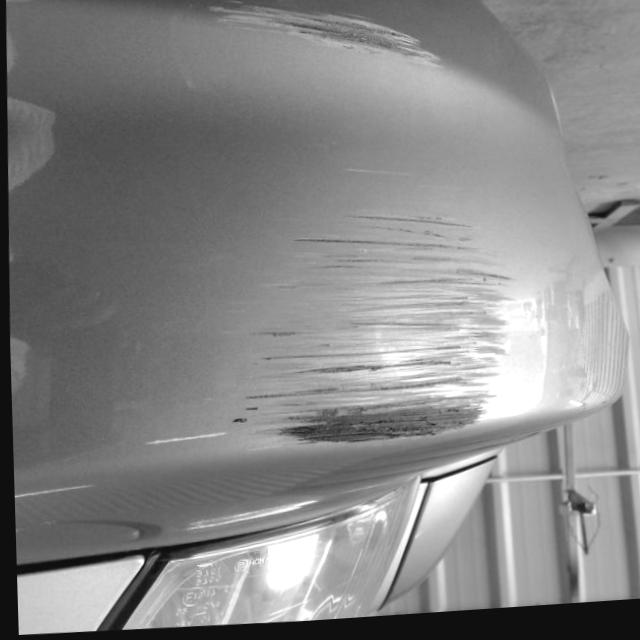Scratch: (244, 212, 514, 447), (213, 0, 441, 68)
